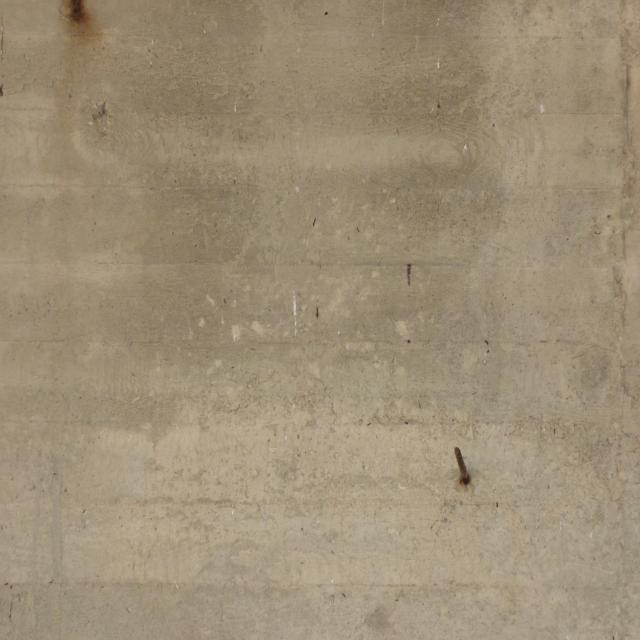corrosion: (58, 1, 105, 176), (442, 421, 480, 505), (404, 258, 414, 290)
